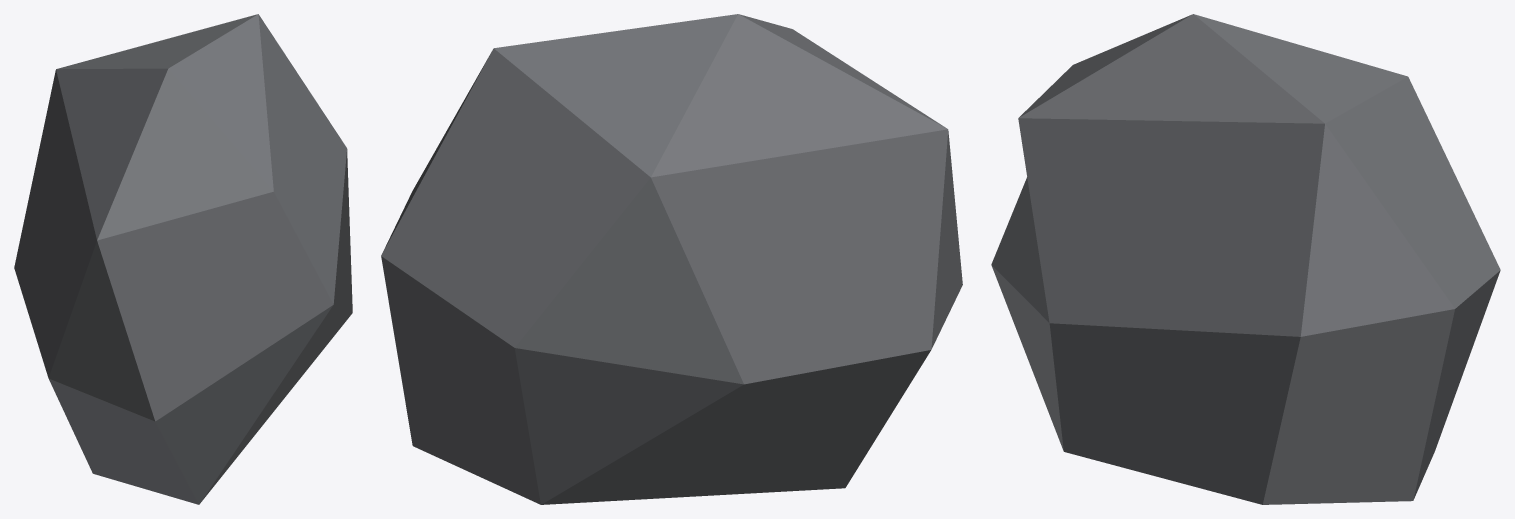
The model's file is Rock_2.fbx.
3 renders of one model, left to right at view 1: azimuth 30°, elevation 25°; view 2: azimuth 150°, elevation 25°; view 3: azimuth 270°, elevation 25°, orthographic. The views are drawn at different scales.
Parts seen in each view (by area): view 1: Rock_2; view 2: Rock_2; view 3: Rock_2.
Part boxes in pixels (box(x1,y1,x2,y2)): Rock_2: box(14, 14, 352, 504); Rock_2: box(381, 14, 962, 504); Rock_2: box(991, 14, 1500, 504).
Bounding box in the file's own units: 253 × 257 × 263.
